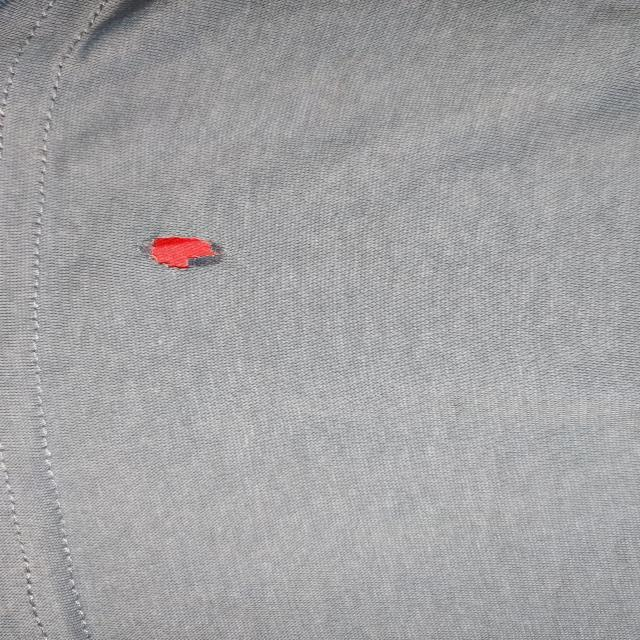Hole: (142, 237, 222, 269)
